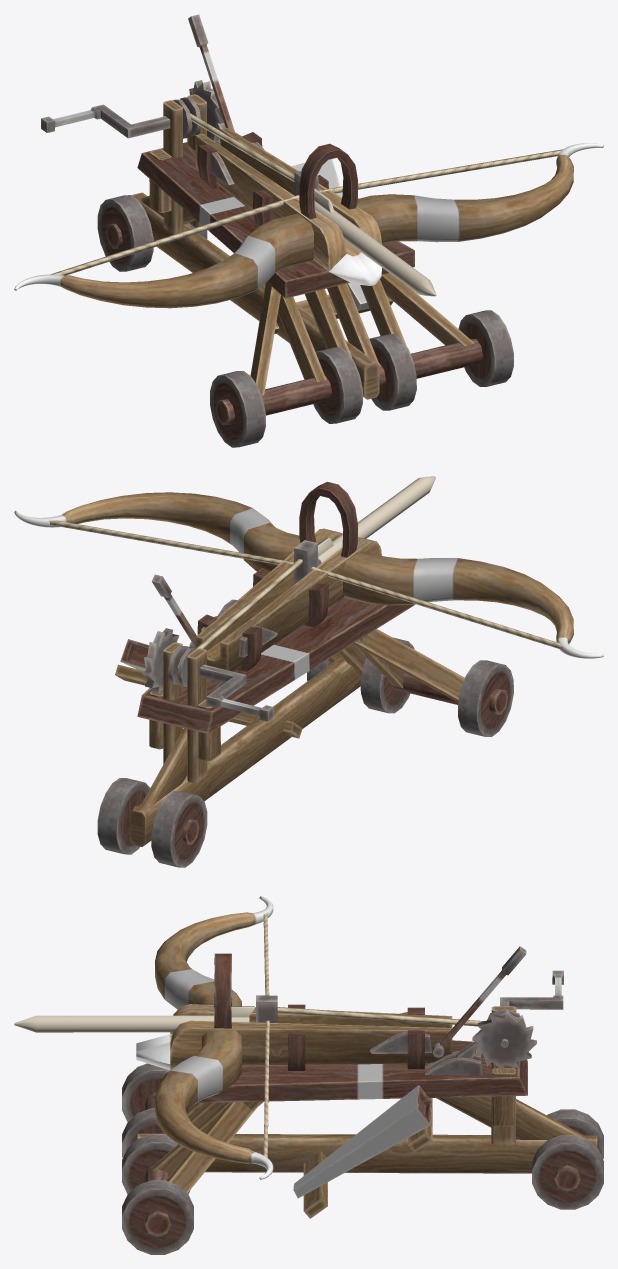
The model's file is 272-oyumi.glb.
3 views of the same model, one above another, from view 1: azimuth 30°, elevation 25°; view 2: azimuth 150°, elevation 25°; view 3: azimuth 270°, elevation 25° (orthographic). The views are drawn at different scales.
Size of the model in its own units: 4.42 by 1.85 by 3.91.
Materials: 2 (1 with a texture image).
